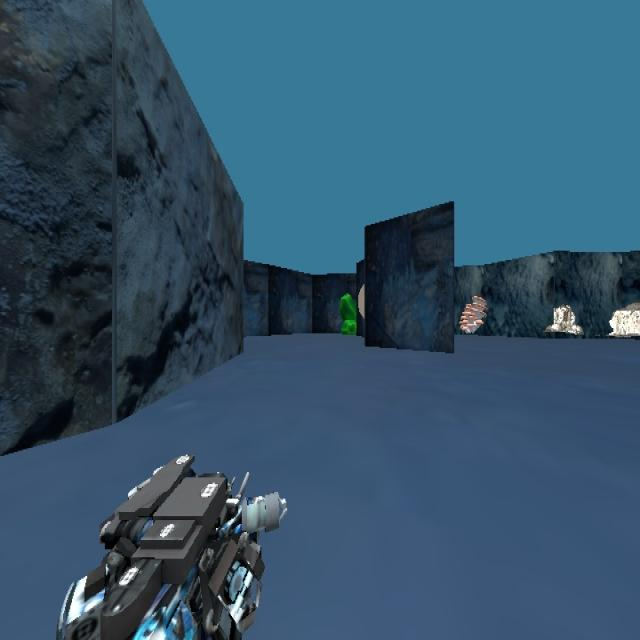Diamon: (338, 292, 356, 336)
Mushroom: (458, 294, 488, 334)
